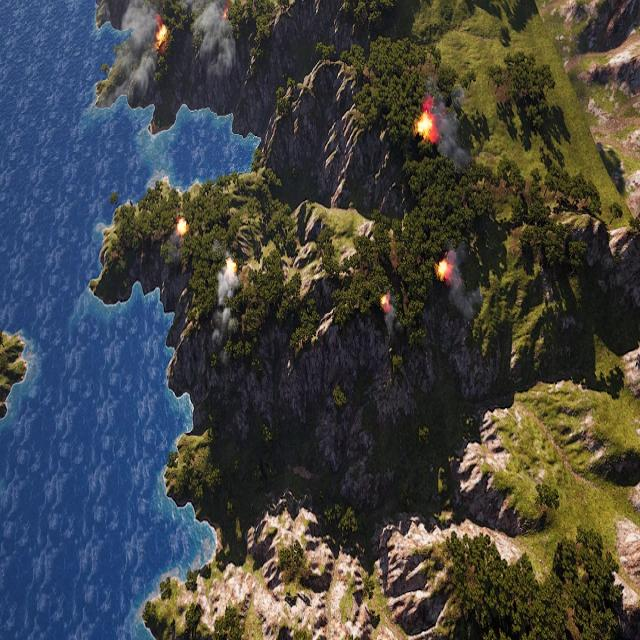fire: (416, 110, 436, 144), (437, 261, 453, 283), (154, 24, 166, 52), (381, 292, 392, 311), (177, 218, 188, 233), (221, 7, 230, 22)
smoke: (191, 0, 241, 89), (118, 0, 162, 93), (205, 265, 238, 366), (432, 85, 469, 168), (448, 240, 482, 324)
